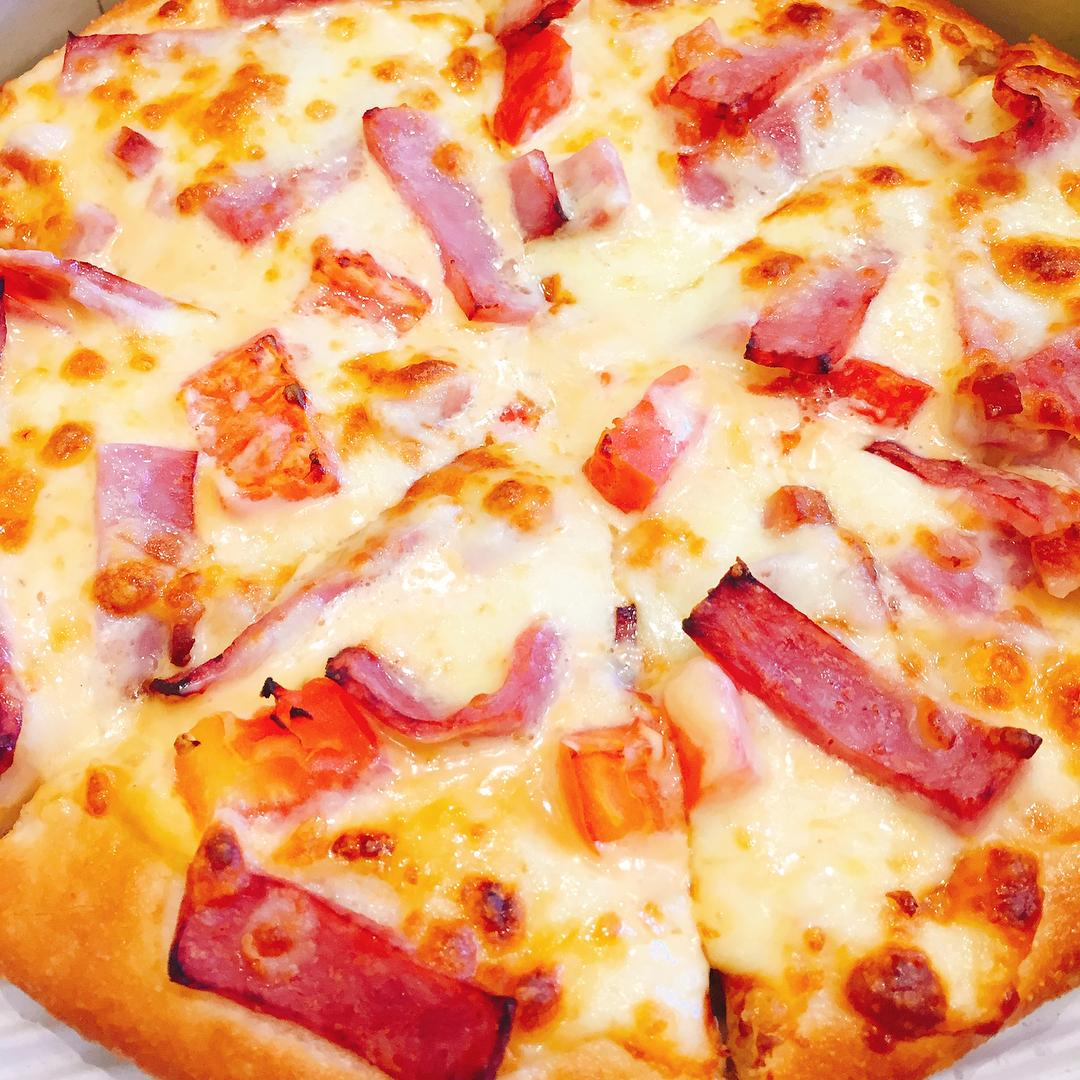Ham: (683, 568, 1027, 808), (172, 860, 518, 1080), (363, 102, 543, 327), (327, 644, 568, 754), (883, 438, 1080, 567), (98, 440, 200, 672), (581, 364, 712, 523), (149, 585, 327, 702), (742, 252, 898, 382), (0, 245, 189, 348), (202, 138, 365, 252), (655, 37, 838, 132), (52, 22, 257, 98), (483, 0, 577, 148), (953, 60, 1080, 165), (511, 148, 635, 243)
Pizza: (0, 0, 1080, 1080)
